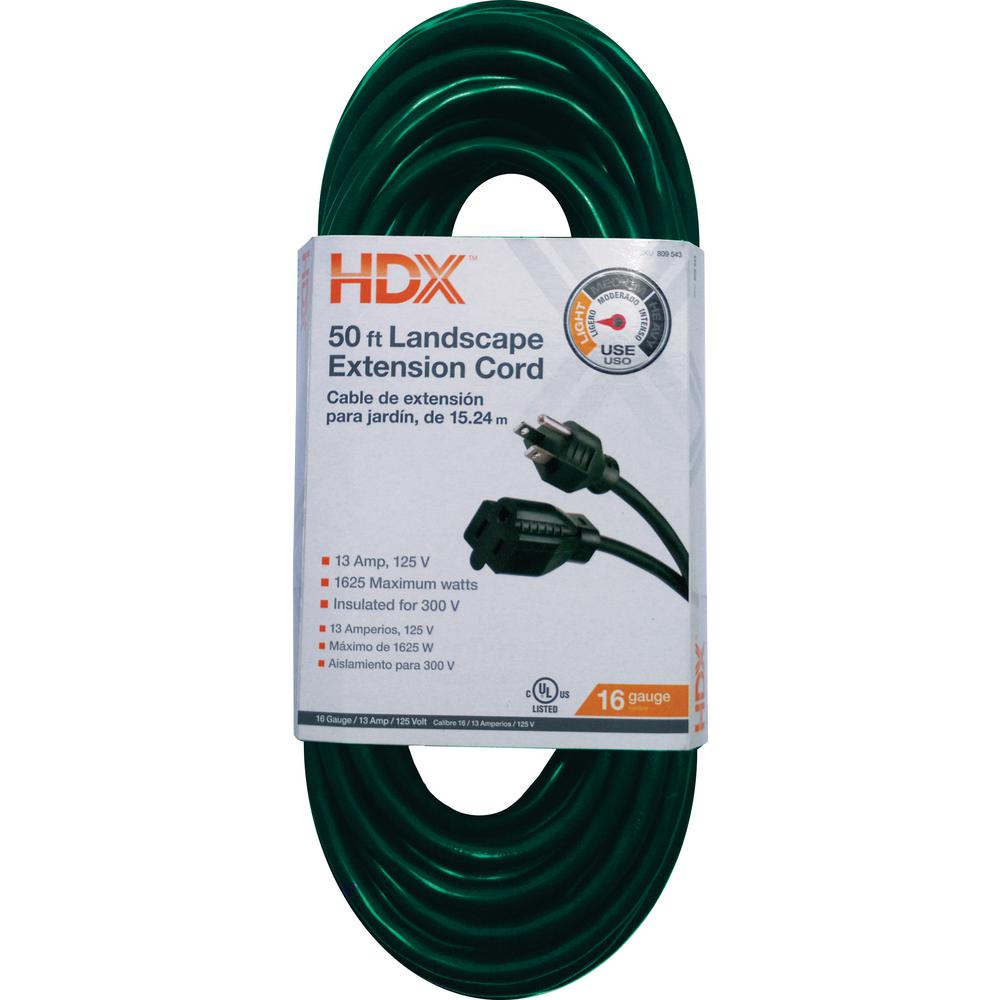Nonrec_Tangler: (272, 2, 734, 980)
